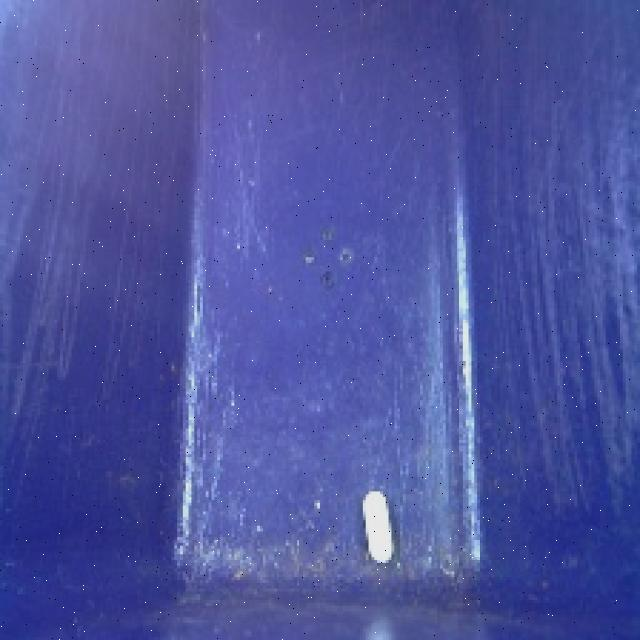small: (358, 482, 400, 566)
